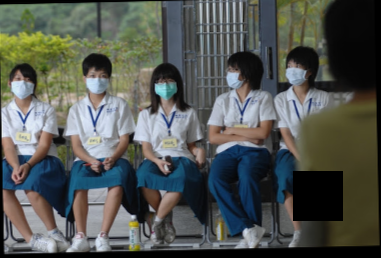with_mask: (10, 73, 33, 100), (84, 70, 108, 95), (153, 77, 177, 102), (284, 61, 307, 87), (224, 66, 244, 90)
